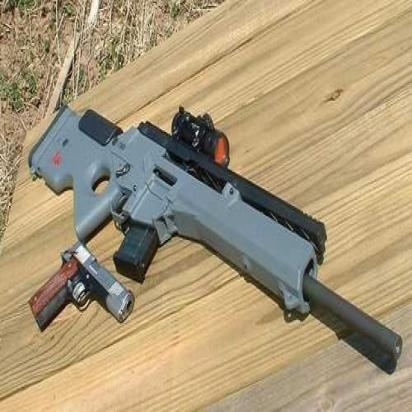Gun: (29, 75, 406, 370), (28, 238, 138, 334)
